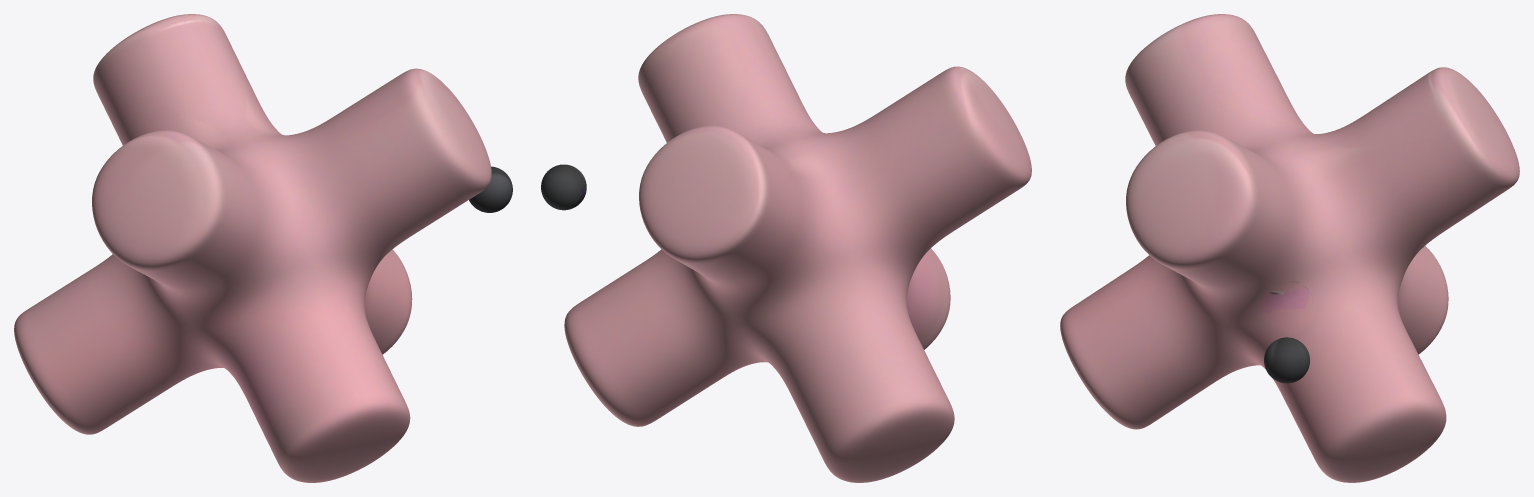
Rendered from abstract.glb.
3 views of the same model, side by side, from view 1: azimuth 30°, elevation 25°; view 2: azimuth 150°, elevation 25°; view 3: azimuth 270°, elevation 25° (orthographic).
Bounding box in the file's own units: 2 × 1.52 × 1.8.
1 material, 1 textured.
